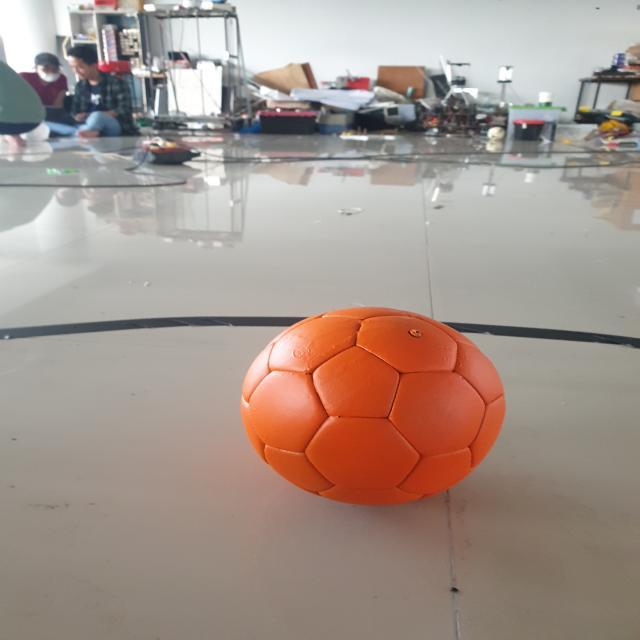bola: (238, 300, 516, 516)
